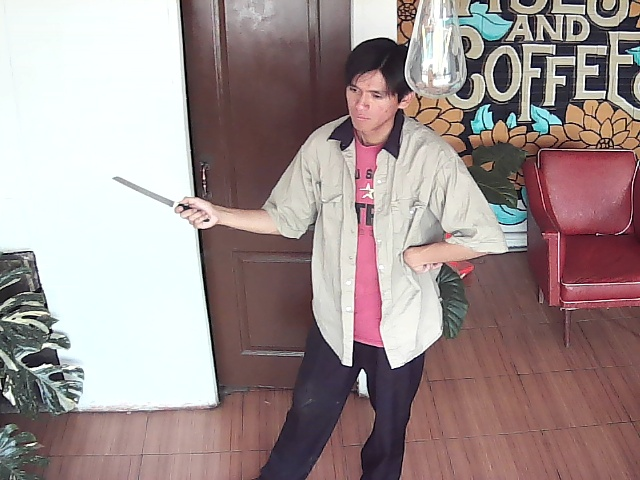cuchillo: (110, 169, 210, 228)
